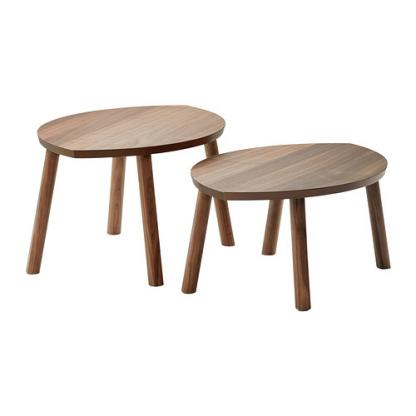Table: (24, 100, 237, 290), (179, 139, 393, 314)
